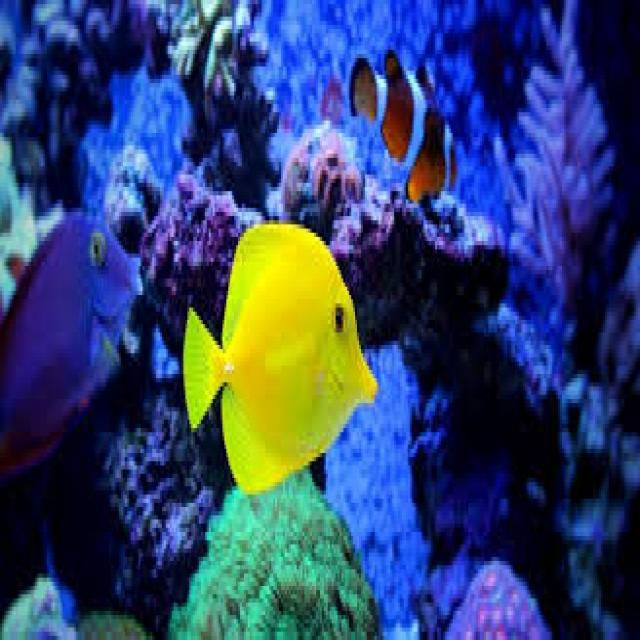YellowTang: (178, 217, 378, 498)
